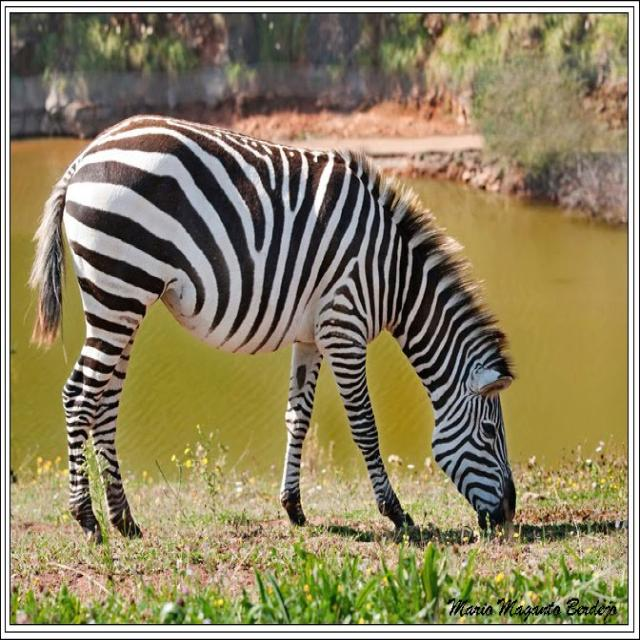Herbivorous: (27, 115, 518, 541)
